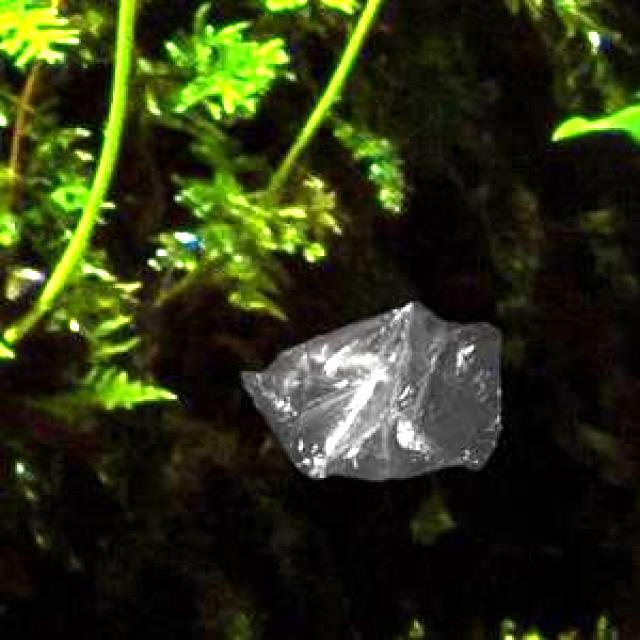Plastic_Bag: (238, 300, 498, 477)
